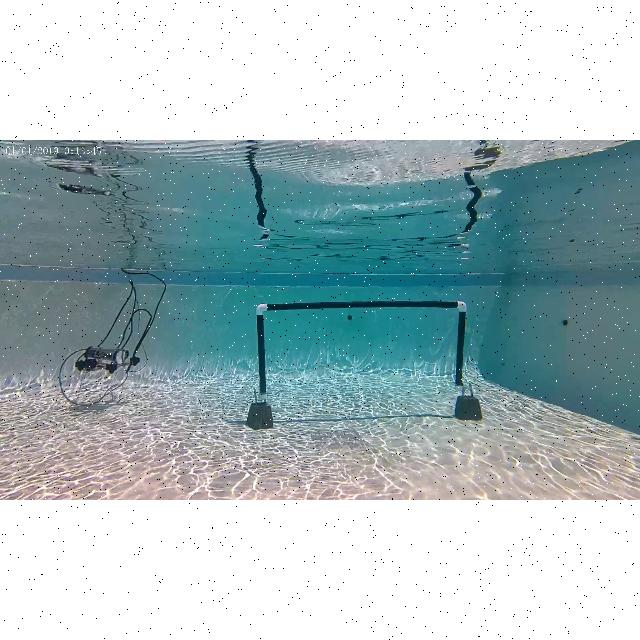prequal gate: (256, 301, 466, 395)
prequal gate leg l: (252, 297, 272, 405)
prequal gate leg r: (454, 297, 472, 391)
